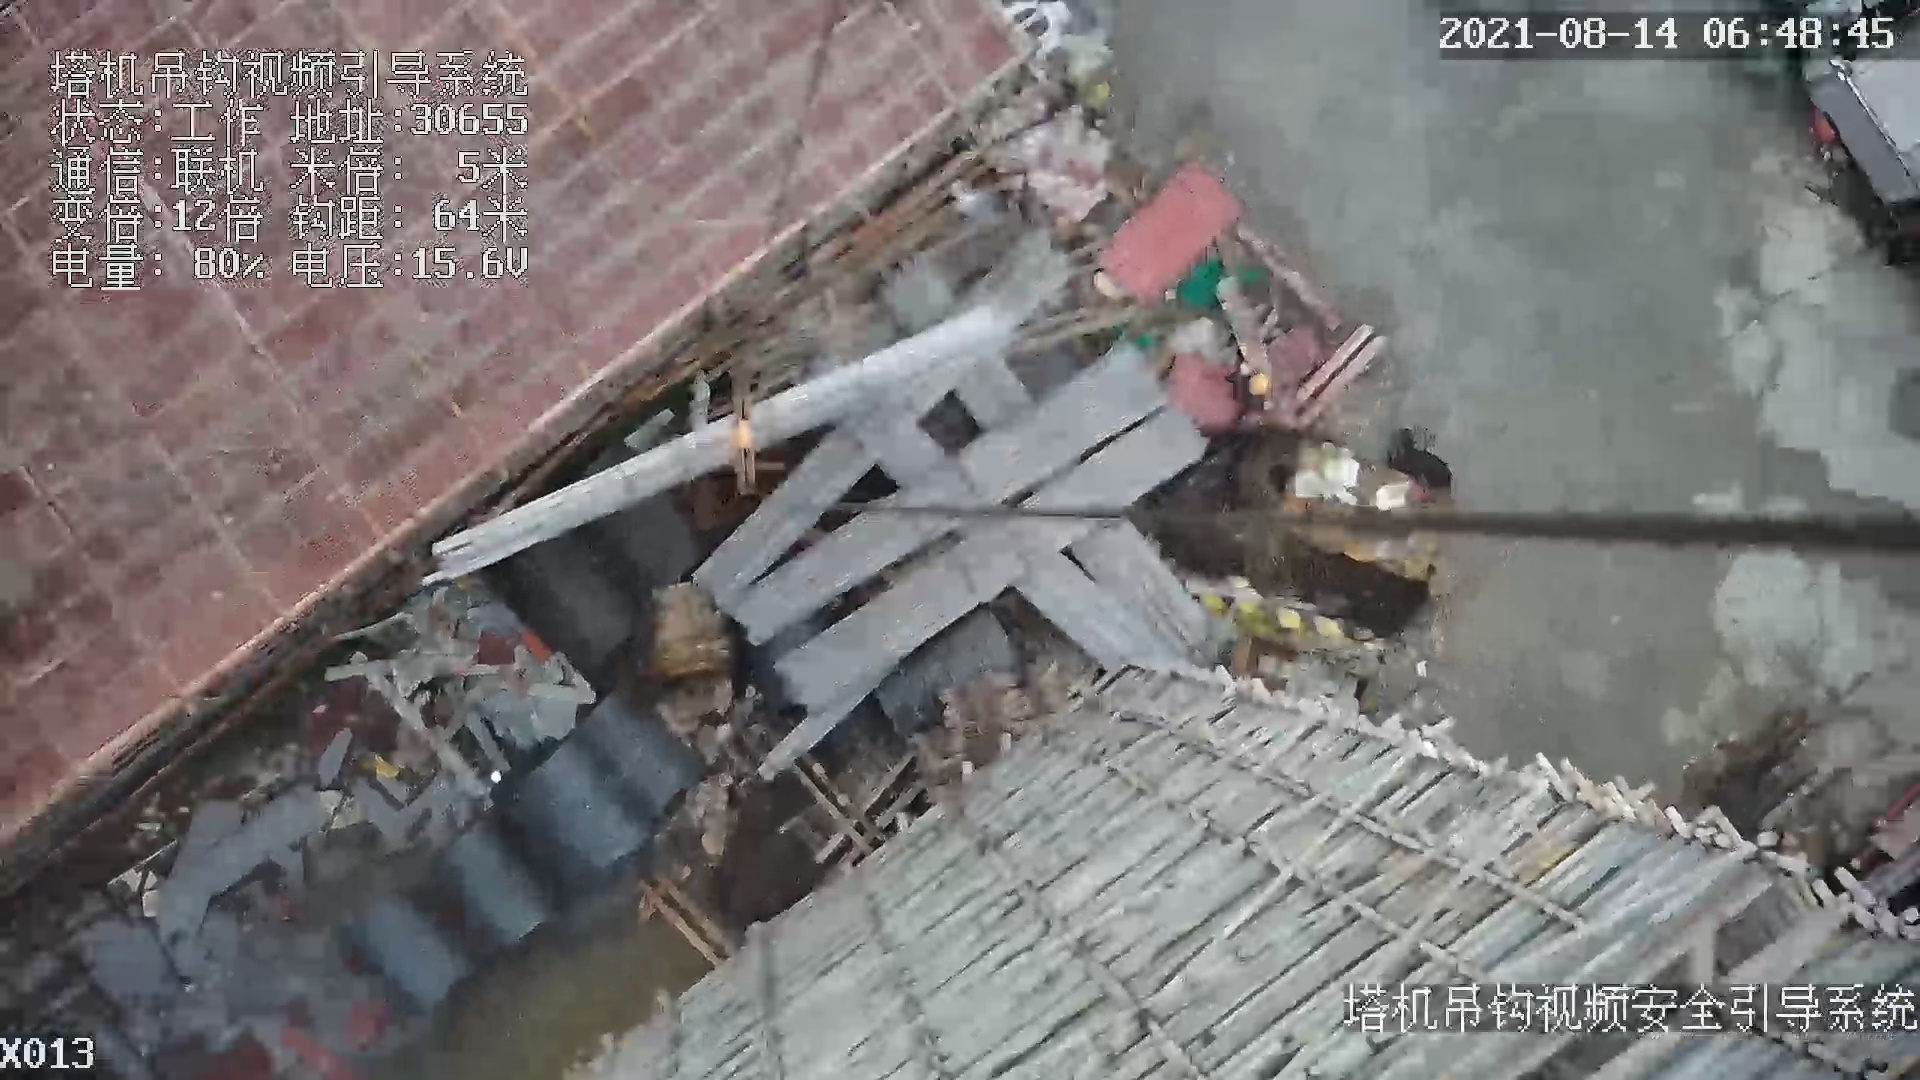helmet: (1254, 369, 1271, 394)
hook: (723, 377, 769, 501)
person: (1223, 361, 1280, 419)
